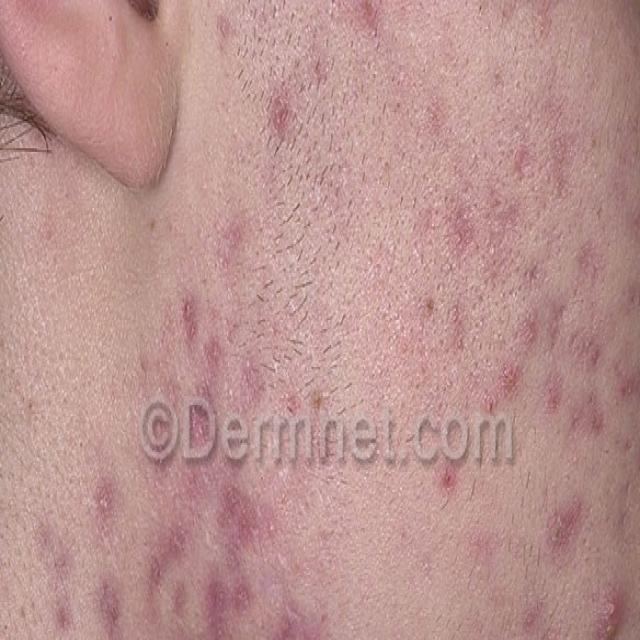Acne: (415, 67, 640, 640), (56, 282, 357, 640), (260, 50, 344, 172), (210, 11, 243, 50)
